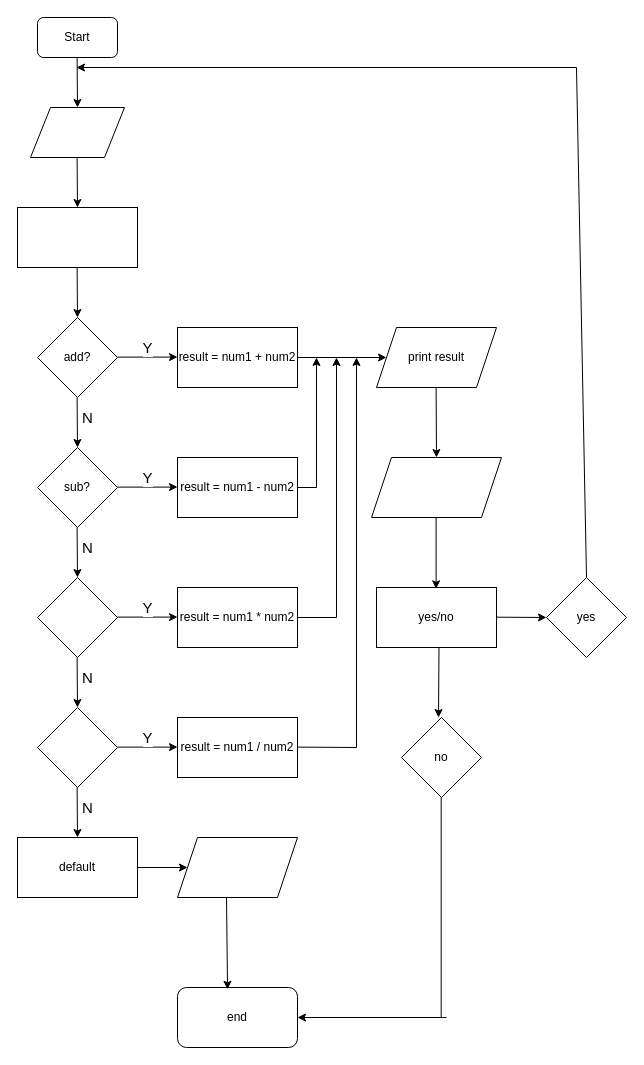
The diagram is 644 pixels wide and 1065 high, and some of its shapes have lost their labels. The centre of each missing label's shape, as x and y in pixels:
"another calculation?" belongs at point 436,487.
"choosing operation" belongs at point 77,237.
"divide?" belongs at point 77,747.
"multiply?" belongs at point 77,617.
"print error" belongs at point 237,867.
"read num1, num2, op" belongs at point 77,132.
